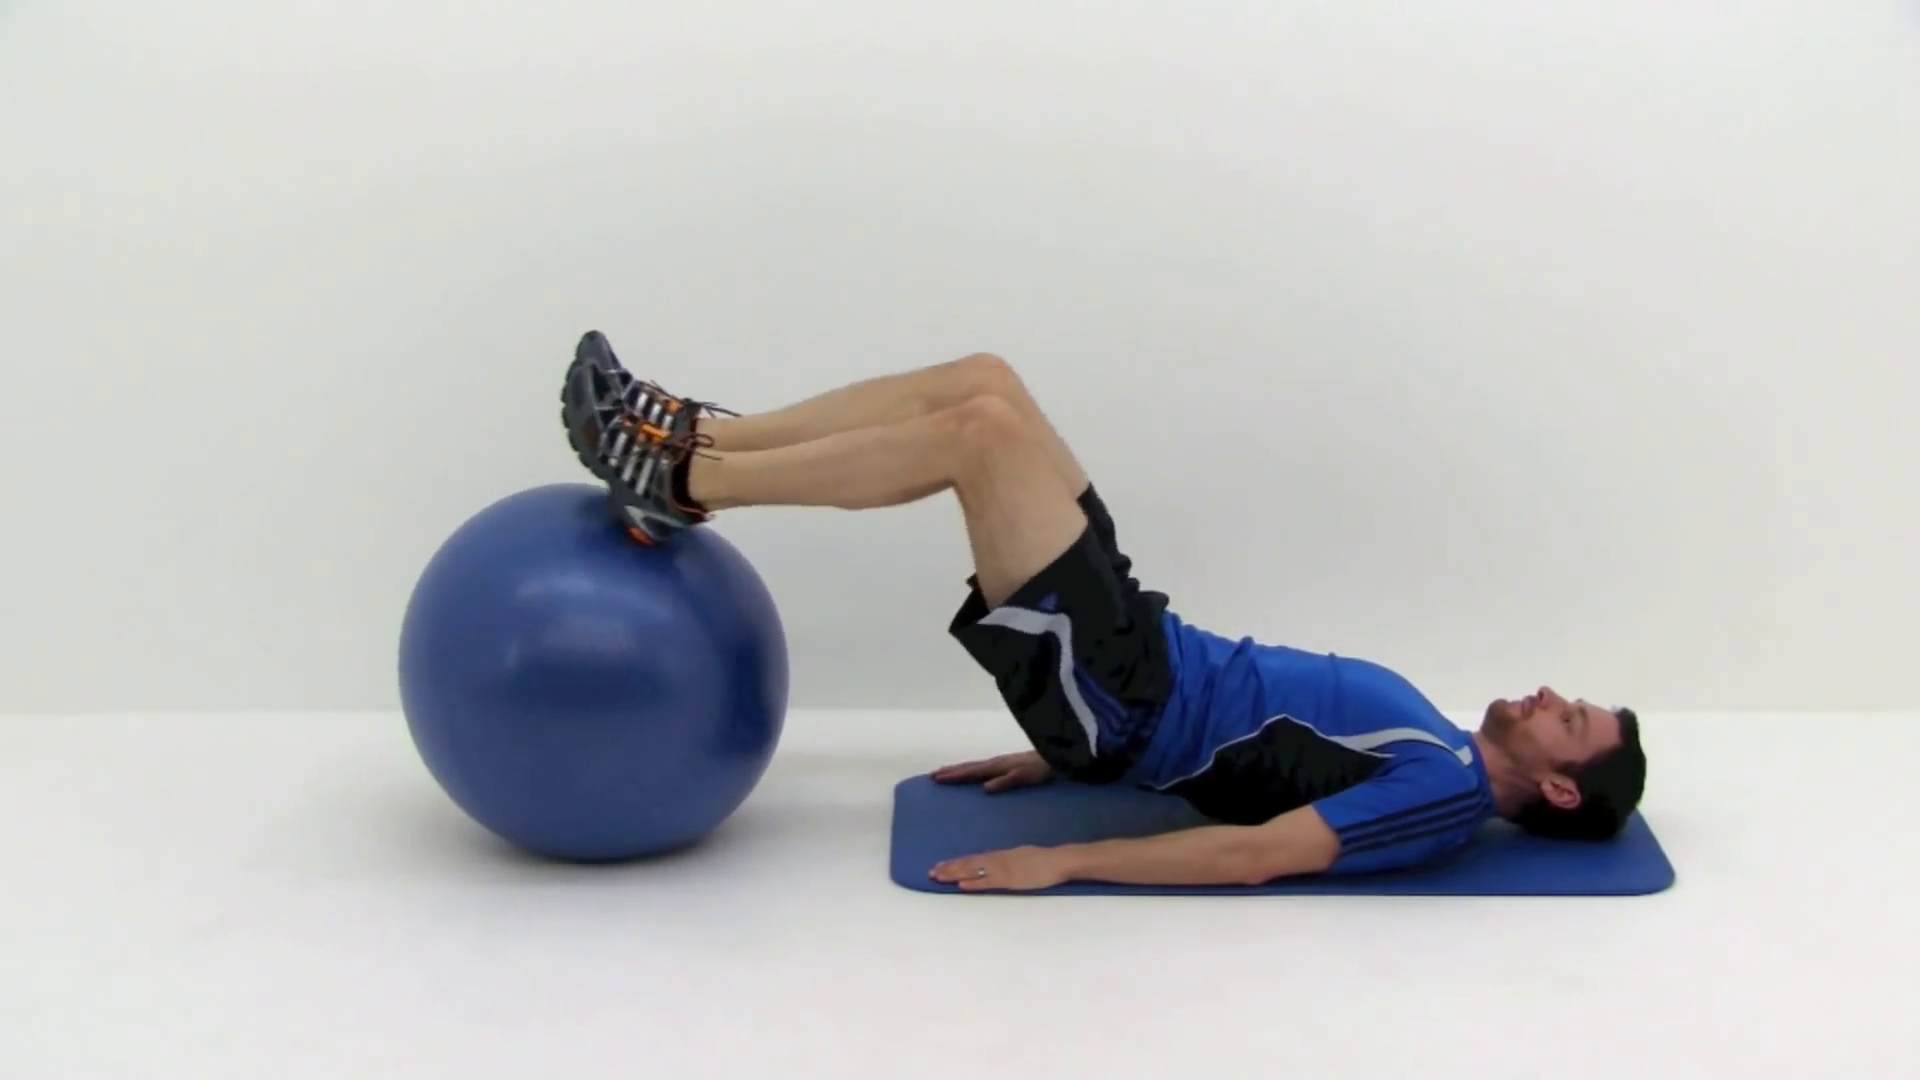yogaball: (389, 468, 800, 876)
